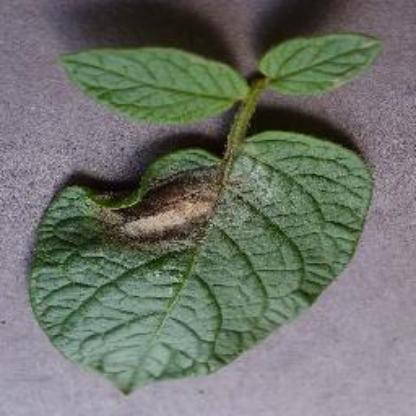Late-Blight: (12, 122, 368, 416)
